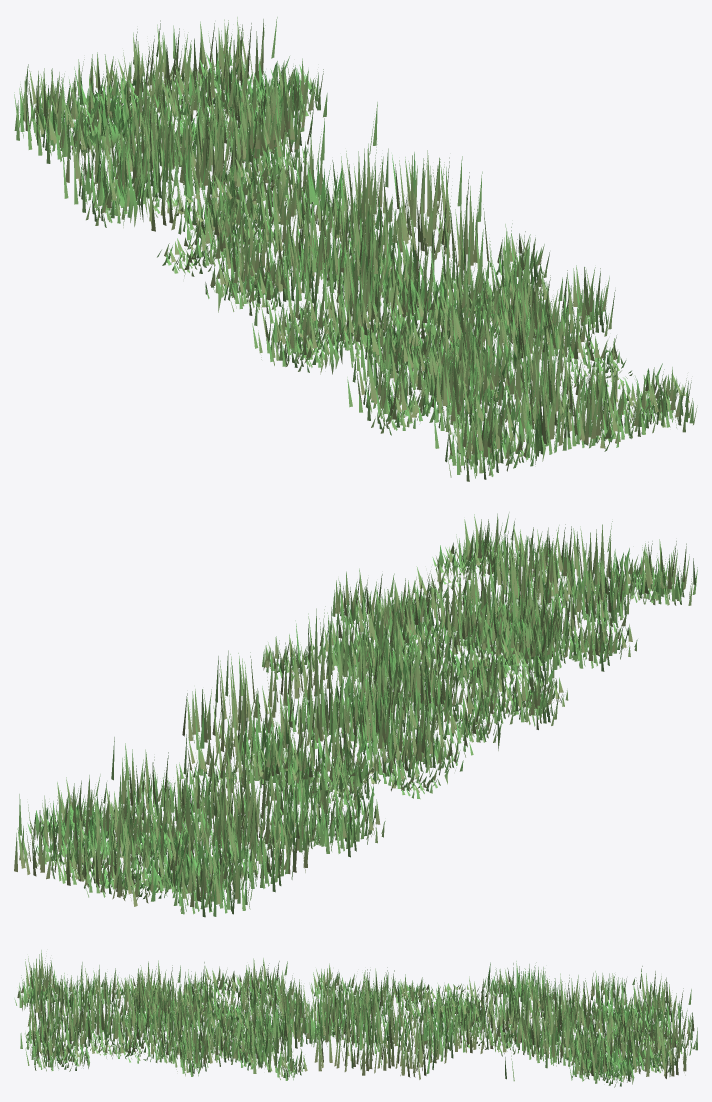
File: grass_3m.fbx
3 views of the same model, one above another, from view 1: azimuth 30°, elevation 25°; view 2: azimuth 150°, elevation 25°; view 3: azimuth 270°, elevation 25° (orthographic). The views are drawn at different scales.
Parts seen in each view (by area): view 1: grass_3m; view 2: grass_3m; view 3: grass_3m.
Boxes of the visible parts, x1,y1,x2,y2 form: grass_3m: [14, 17, 697, 481]; grass_3m: [14, 512, 697, 917]; grass_3m: [14, 950, 697, 1087].
Bounding box in the file's own units: 106 × 25.12 × 296.
